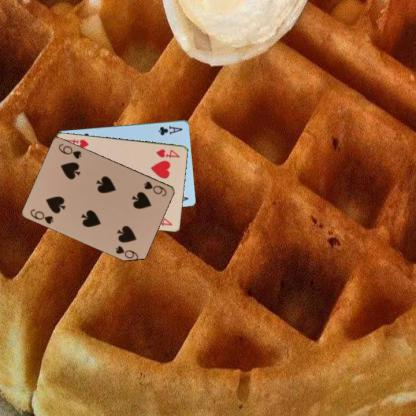4h: (154, 146, 181, 159)
6s: (142, 178, 168, 198), (28, 207, 55, 226)
Ac: (156, 122, 184, 136)
